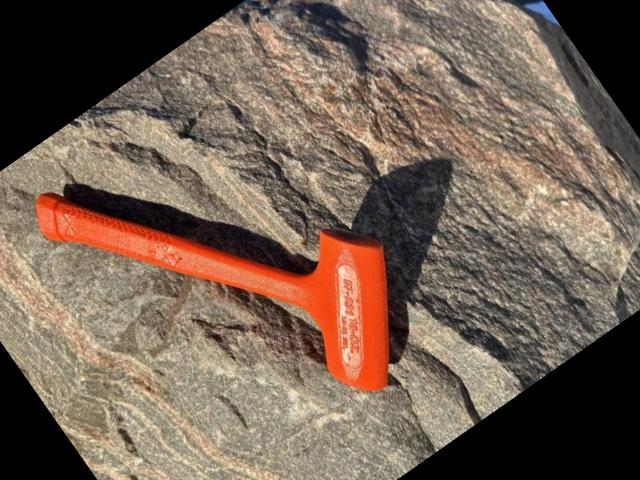hammer: (23, 50, 449, 480)
